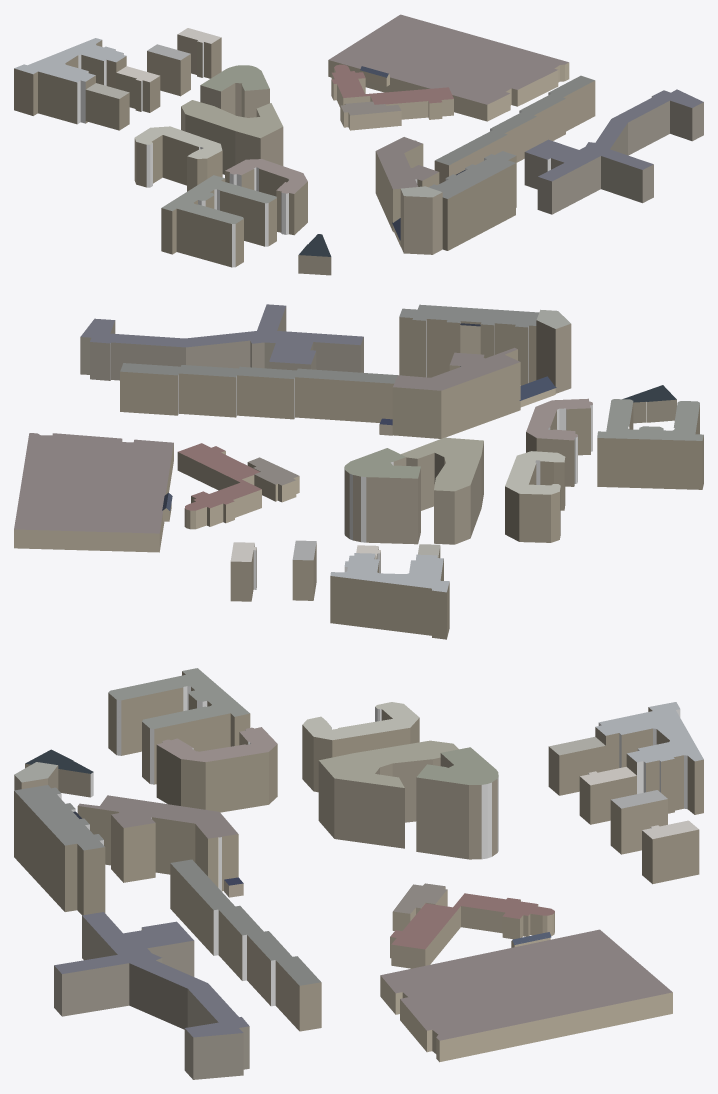
3 renders of one model, top to bottom at view 1: azimuth 30°, elevation 25°; view 2: azimuth 150°, elevation 25°; view 3: azimuth 270°, elevation 25°, orthographic. The views are drawn at different scales.
Visible parts, largest first — view 1: tuile; view 2: tuile; view 3: tuile.
Part boxes in pixels (<box>): tuile: <box>14,14,703,275</box>; tuile: <box>14,304,703,639</box>; tuile: <box>14,668,703,1079</box>.
Bounding box in the file's own units: 310 × 42.16 × 267.
